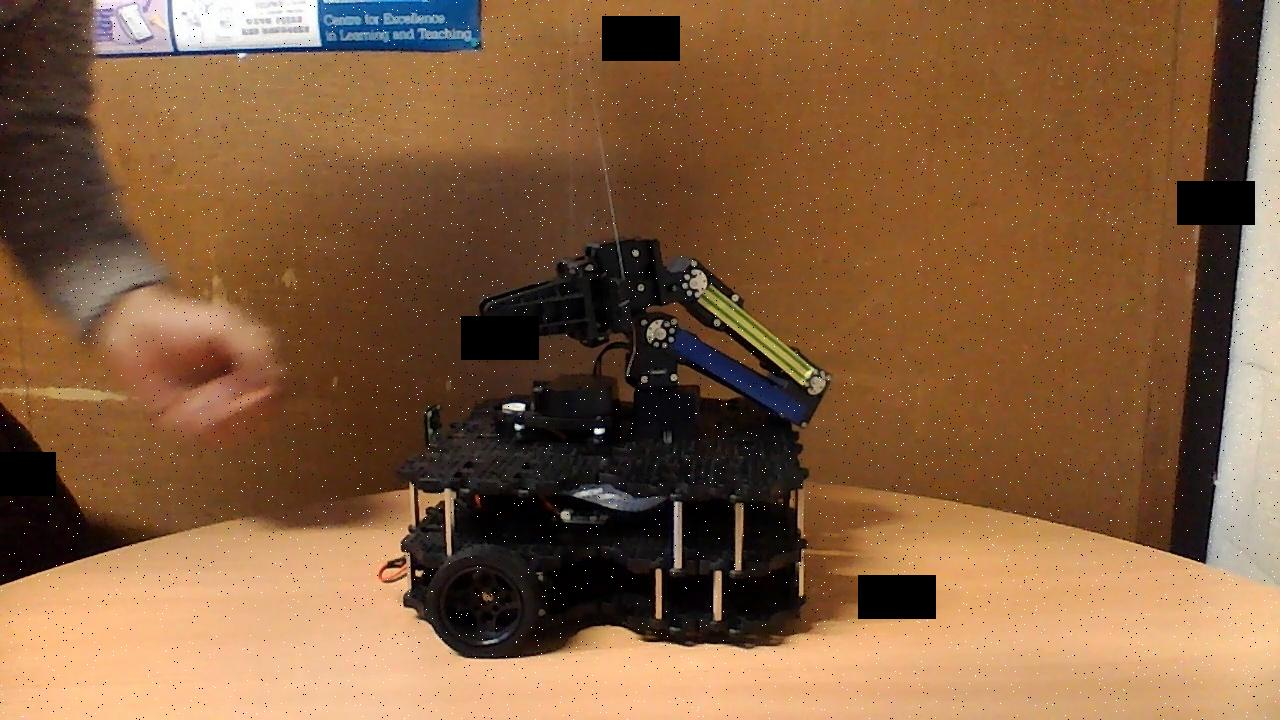Arm: (643, 315, 811, 431)
Hand: (475, 234, 678, 349)
Wrist: (680, 261, 829, 397)
base: (374, 370, 812, 662)
